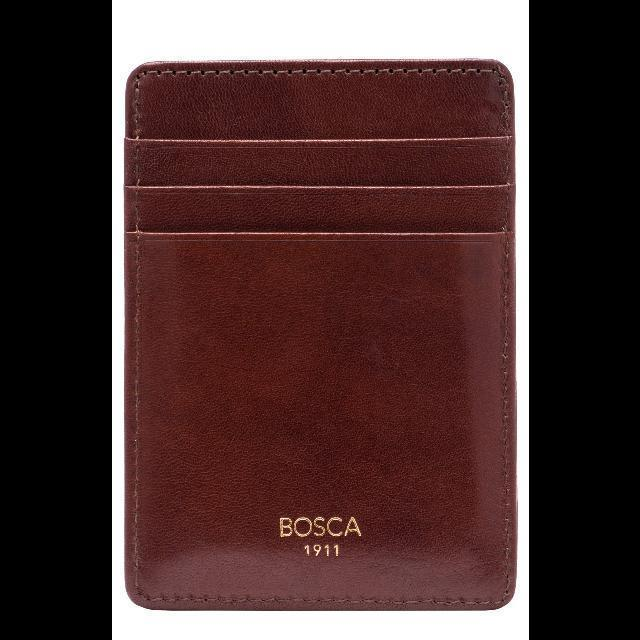wallet: (118, 49, 518, 621)
